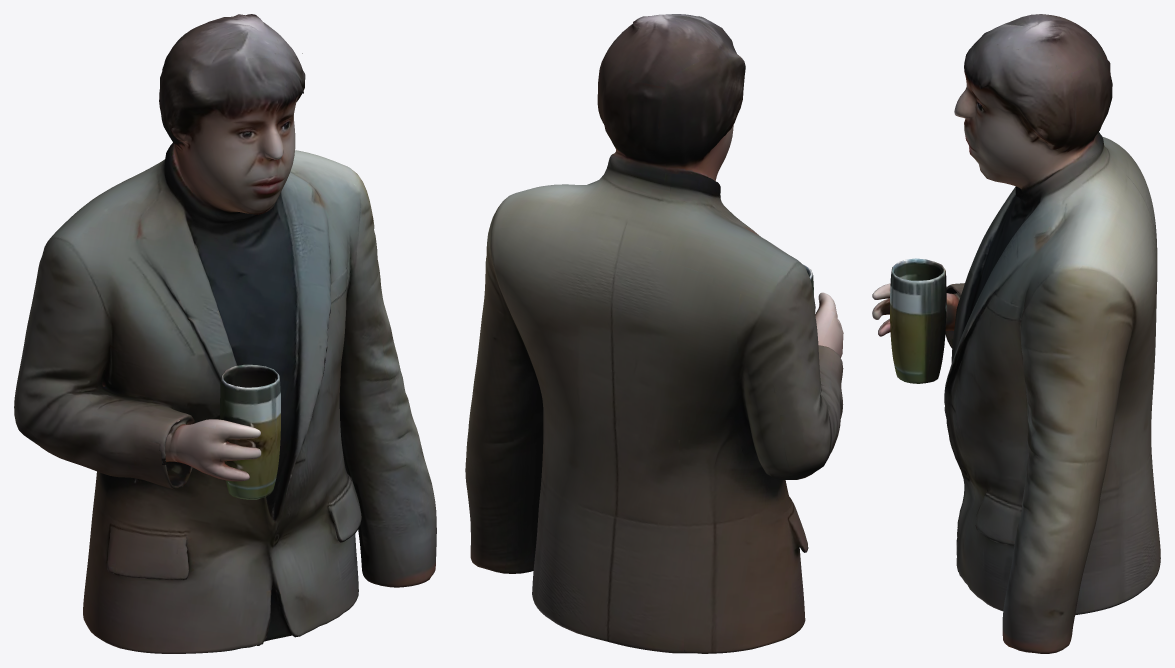
Rendered from tippler-man.glb.
3 renders of one model, left to right at view 1: azimuth 30°, elevation 25°; view 2: azimuth 150°, elevation 25°; view 3: azimuth 270°, elevation 25°, orthographic. The views are drawn at different scales.
Parts seen in each view (by area): view 1: Object_2; view 2: Object_2; view 3: Object_2.
Part boxes in pixels (bbox=[...]): Object_2: bbox=[14, 14, 436, 653]; Object_2: bbox=[465, 14, 843, 653]; Object_2: bbox=[872, 14, 1160, 653].
Bounding box in the file's own units: 1.29 × 1.89 × 0.9062.
1 material, 1 textured.
